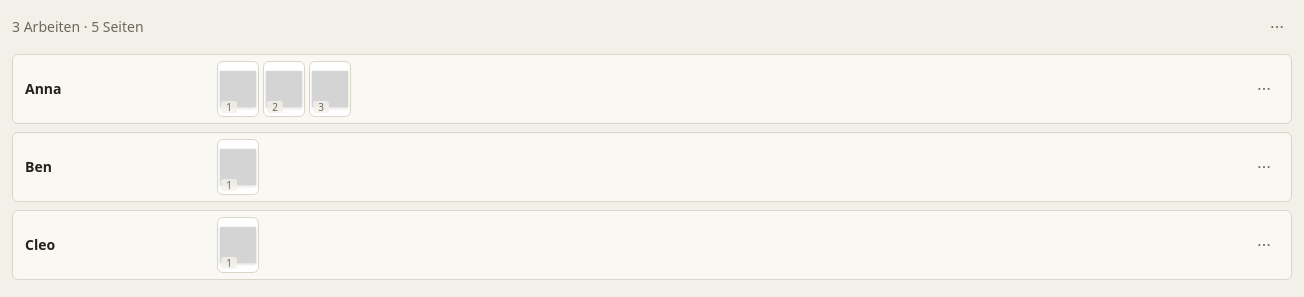
Scenario: list of Arbeiten › renames on double click and keeps the name on Escape
The width and height of the screenshot is (1304, 297).
Double-click the text with class "arbeit-name" showing "Anna": (43, 88) [25,79,62,98]
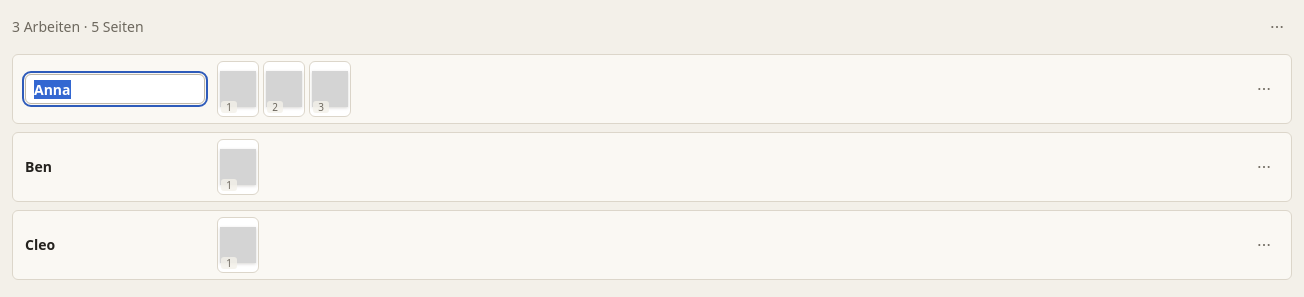
Press Escape in the field with class "arbeit-name-field", box [25,74,205,104]
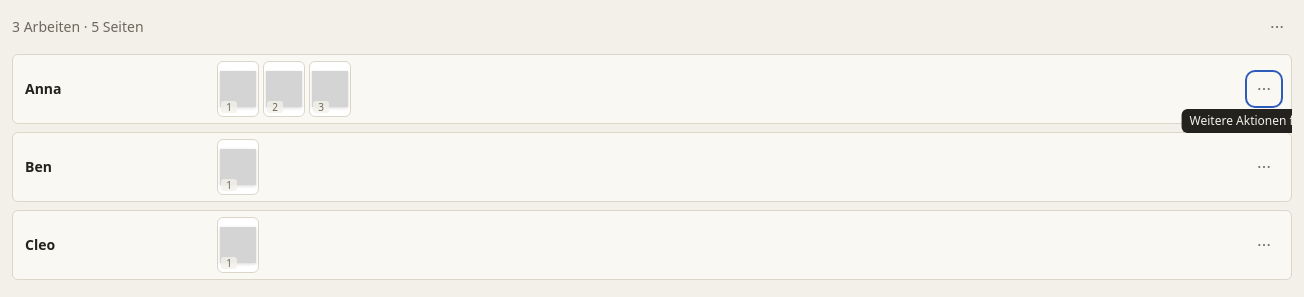
Result: the field with class "arbeit-name-field" is gone
